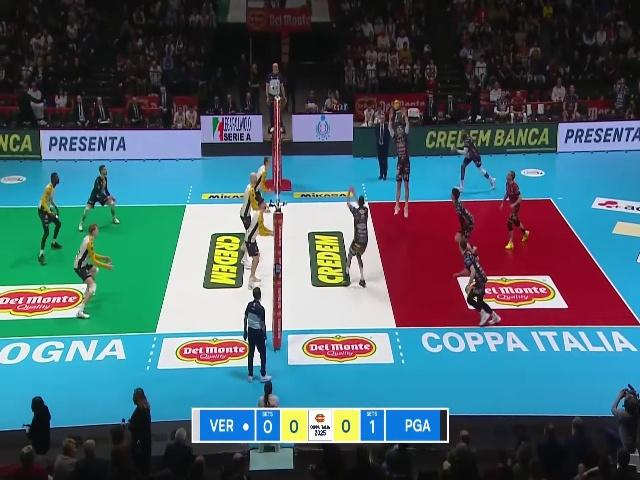volleyball court: (0, 197, 638, 338)
